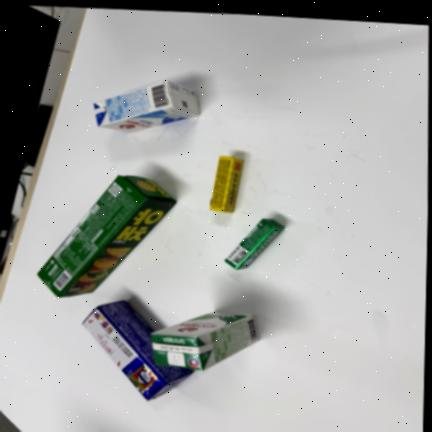cracker_ace: (83, 299, 193, 400)
cracker_vege: (35, 175, 174, 298)
gum_green: (225, 218, 285, 270)
gum_yellow: (207, 155, 247, 213)
milk_blue: (93, 79, 198, 133)
milk_green: (150, 311, 259, 371)
